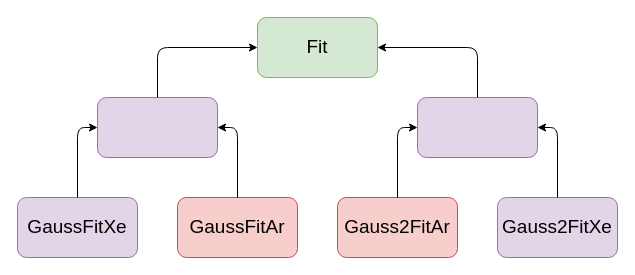
Image size: 635x275. Some labels were removed from this diagram. The shapes that lost their labels are listed below. From the top down, each one's box as (x1, y1, x2, y2) in pixels, then its label:
(96, 96, 218, 158): GaussFit
(416, 96, 538, 158): Gauss2Fit
